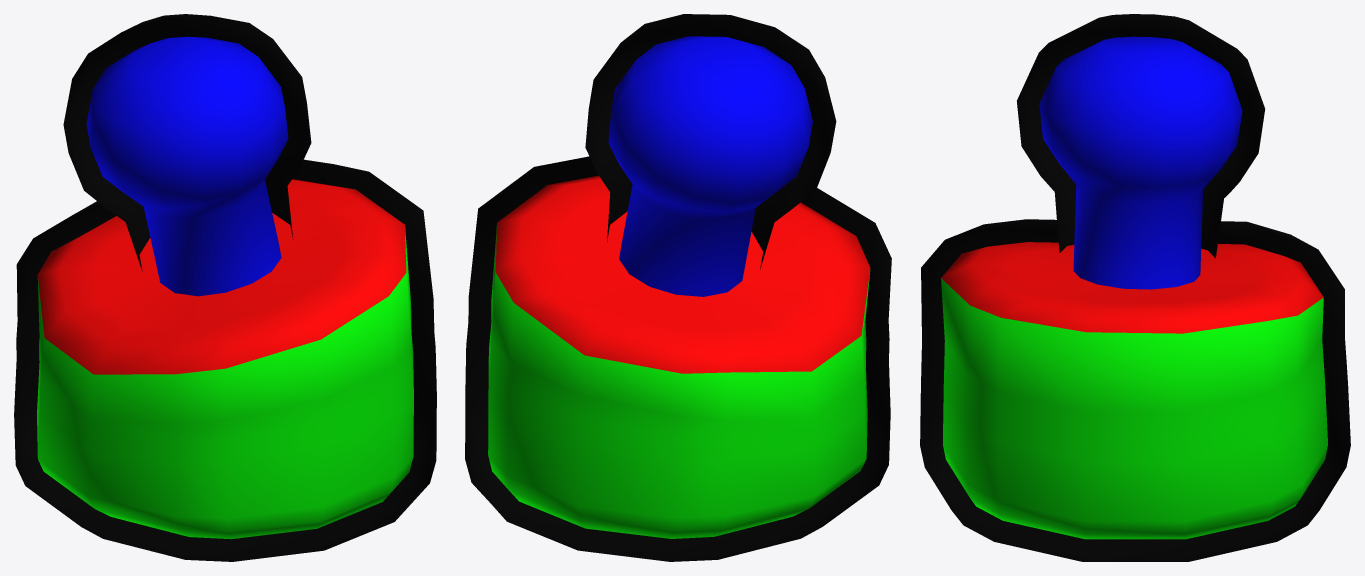
Rendered from leg2.fbx.
The picture shows the model from 3 angles, left to right: view 1: azimuth 30°, elevation 25°; view 2: azimuth 150°, elevation 25°; view 3: azimuth 270°, elevation 25°; orthographic projection. The views are drawn at different scales.
Visible parts, largest first — view 1: Cube.002; view 2: Cube.002; view 3: Cube.002.
Part boxes in pixels (x1,y1,x2,y2): Cube.002: (14, 14, 436, 561); Cube.002: (465, 14, 891, 561); Cube.002: (920, 14, 1350, 561).
Bounding box in the file's own units: 89.76 × 113 × 94.34.
